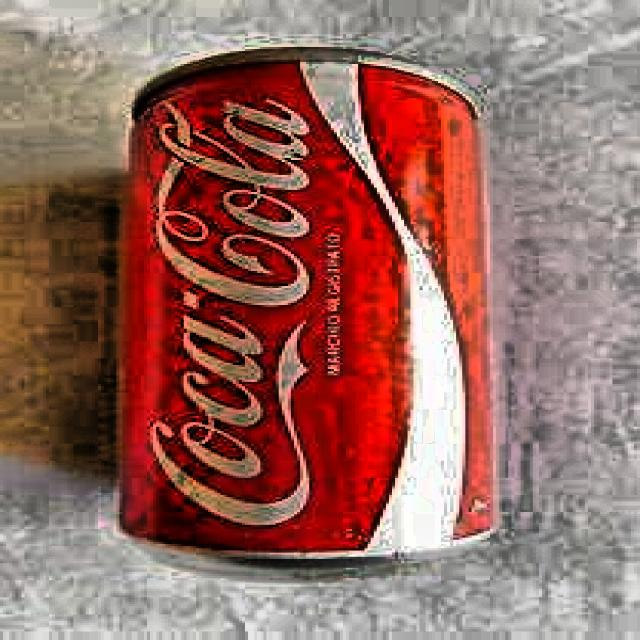Cans: (94, 32, 525, 597)
